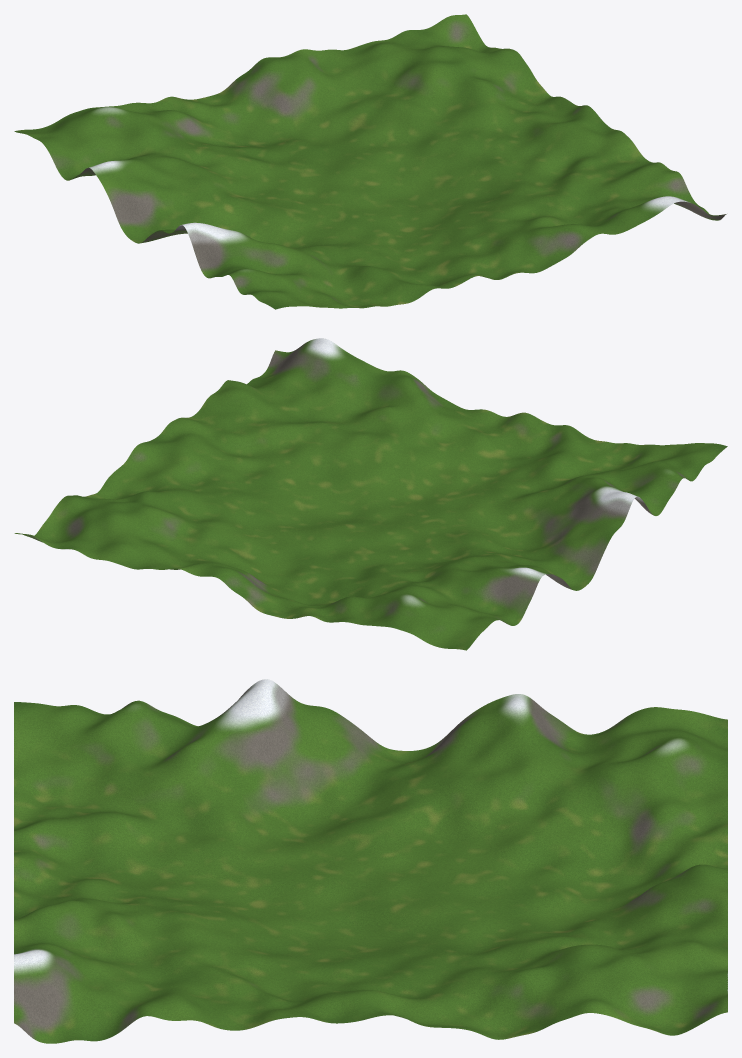
File: terrain.obj
The picture shows the model from 3 angles, top to bottom: view 1: azimuth 30°, elevation 25°; view 2: azimuth 150°, elevation 25°; view 3: azimuth 270°, elevation 25°; orthographic projection. The views are drawn at different scales.
Visible parts, largest first — view 1: terrain; view 2: terrain; view 3: terrain.
Boxes of the visible parts, <box> form: terrain: <box>14,14,726,309</box>; terrain: <box>14,338,727,650</box>; terrain: <box>14,679,727,1043</box>.
Bounding box in the file's own units: 200 × 25 × 200.
1 material, 1 textured.
